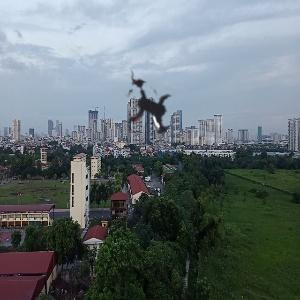drone: (88, 49, 208, 169)
